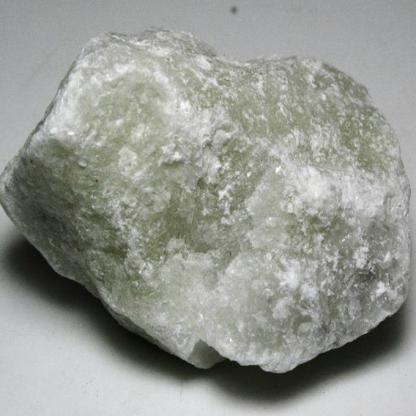Metamorphic_Marble: (0, 22, 413, 375)
